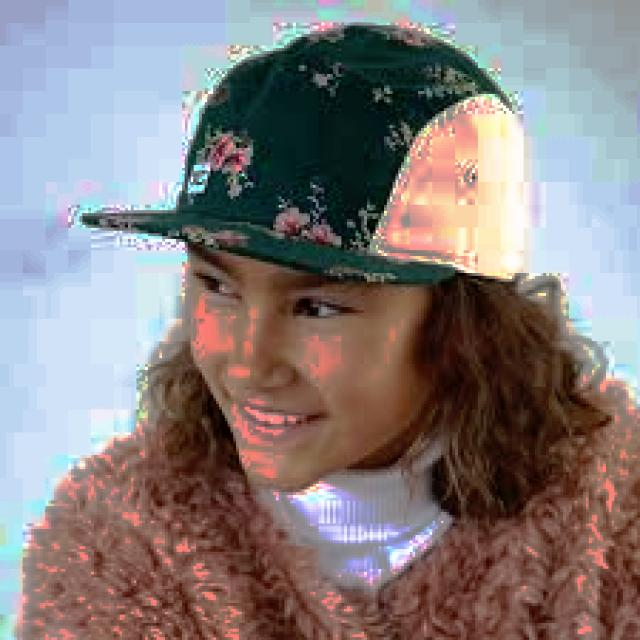TOPI: (74, 11, 529, 288)
